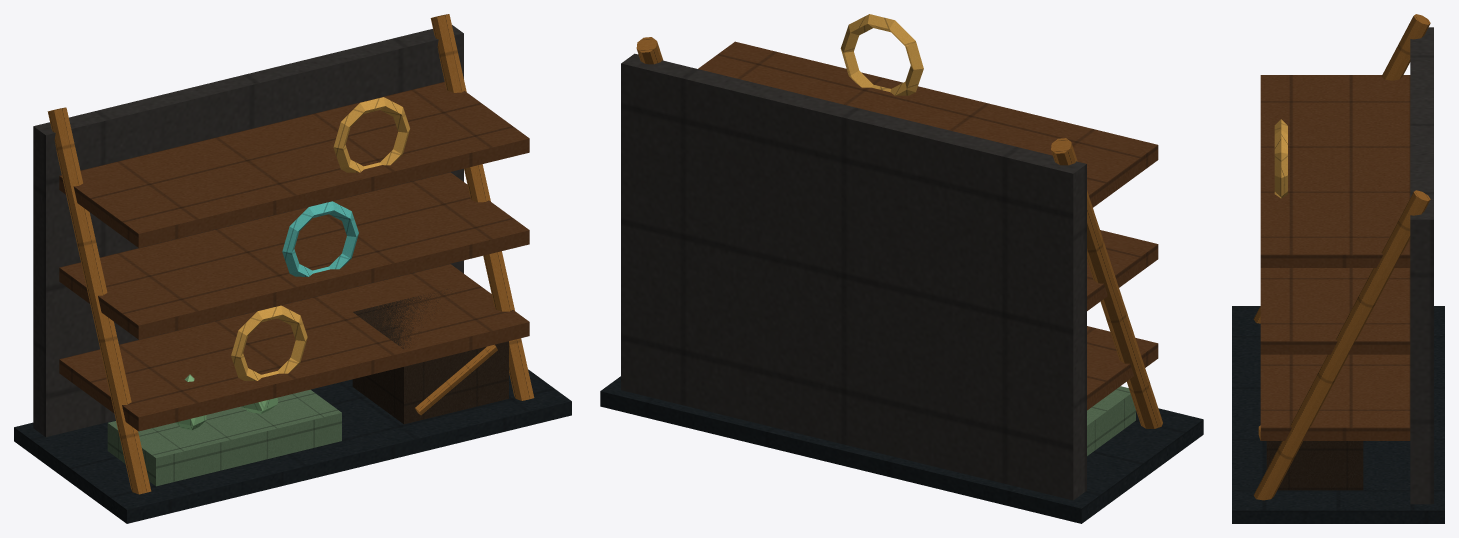
The model's file is preserve-rack.e10.glb.
3 views of the same model, side by side, from view 1: azimuth 30°, elevation 25°; view 2: azimuth 150°, elevation 25°; view 3: azimuth 270°, elevation 25° (orthographic). The views are drawn at different scales.
Parts seen in each view (by area): view 1: PreserveRackE10; view 2: PreserveRackE10; view 3: PreserveRackE10.
Part boxes in pixels (x1,y1,x2,y2): PreserveRackE10: (14,14,571,523); PreserveRackE10: (600,14,1203,523); PreserveRackE10: (1232,14,1444,523).
Size of the model in its own units: 3.3 by 2.4 by 1.45.
Materials: 1 (1 with a texture image).
